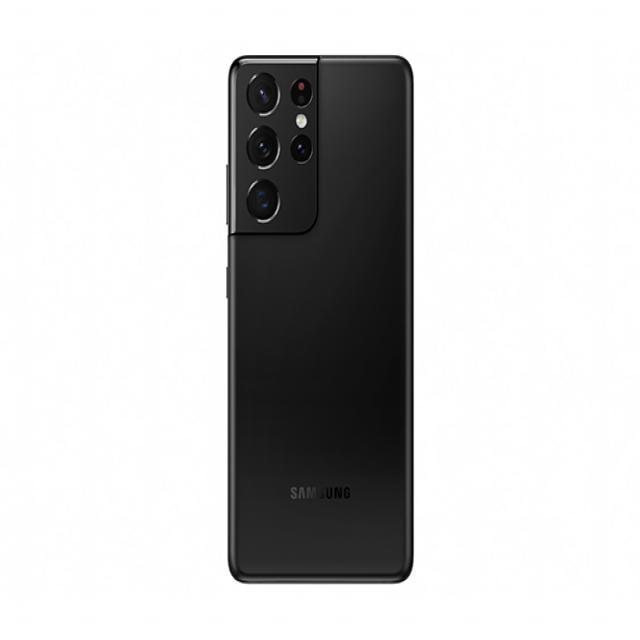phone: (225, 53, 414, 584)
